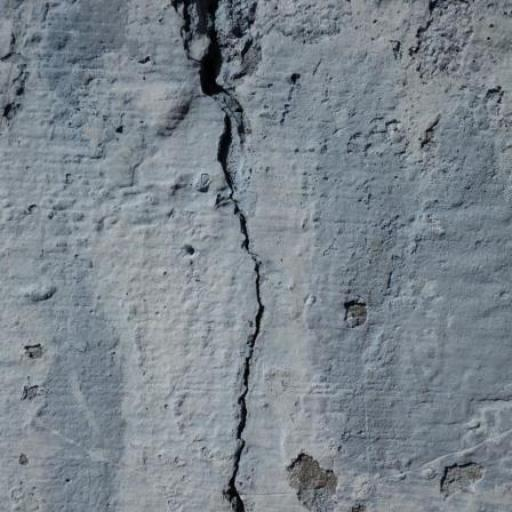spalling: (168, 5, 273, 509)
